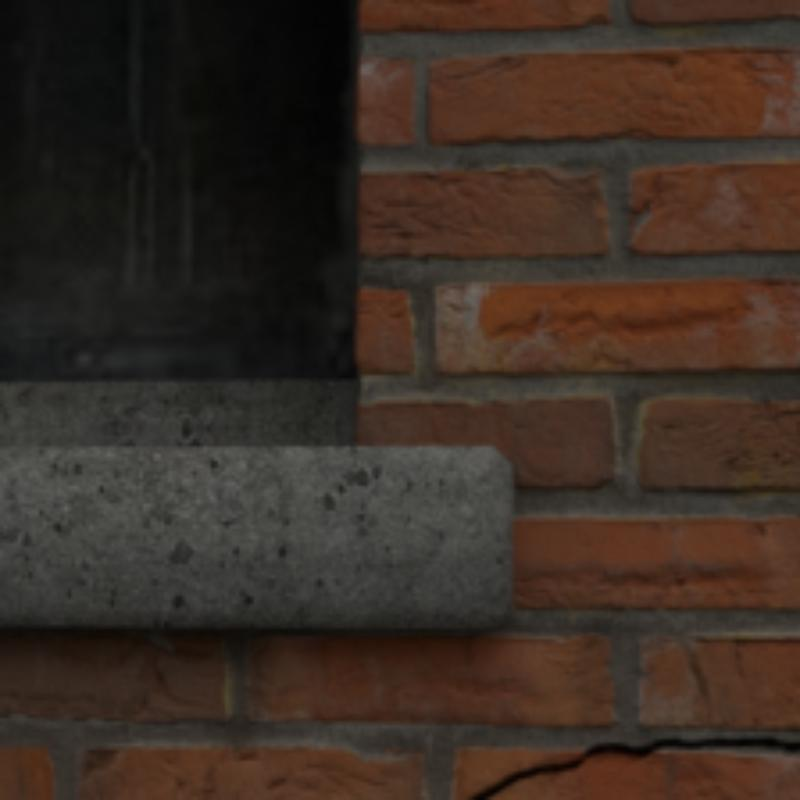pothole: (471, 739, 796, 796)
